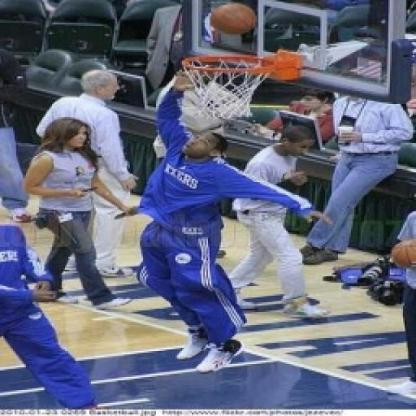basketball: (206, 0, 262, 39)
